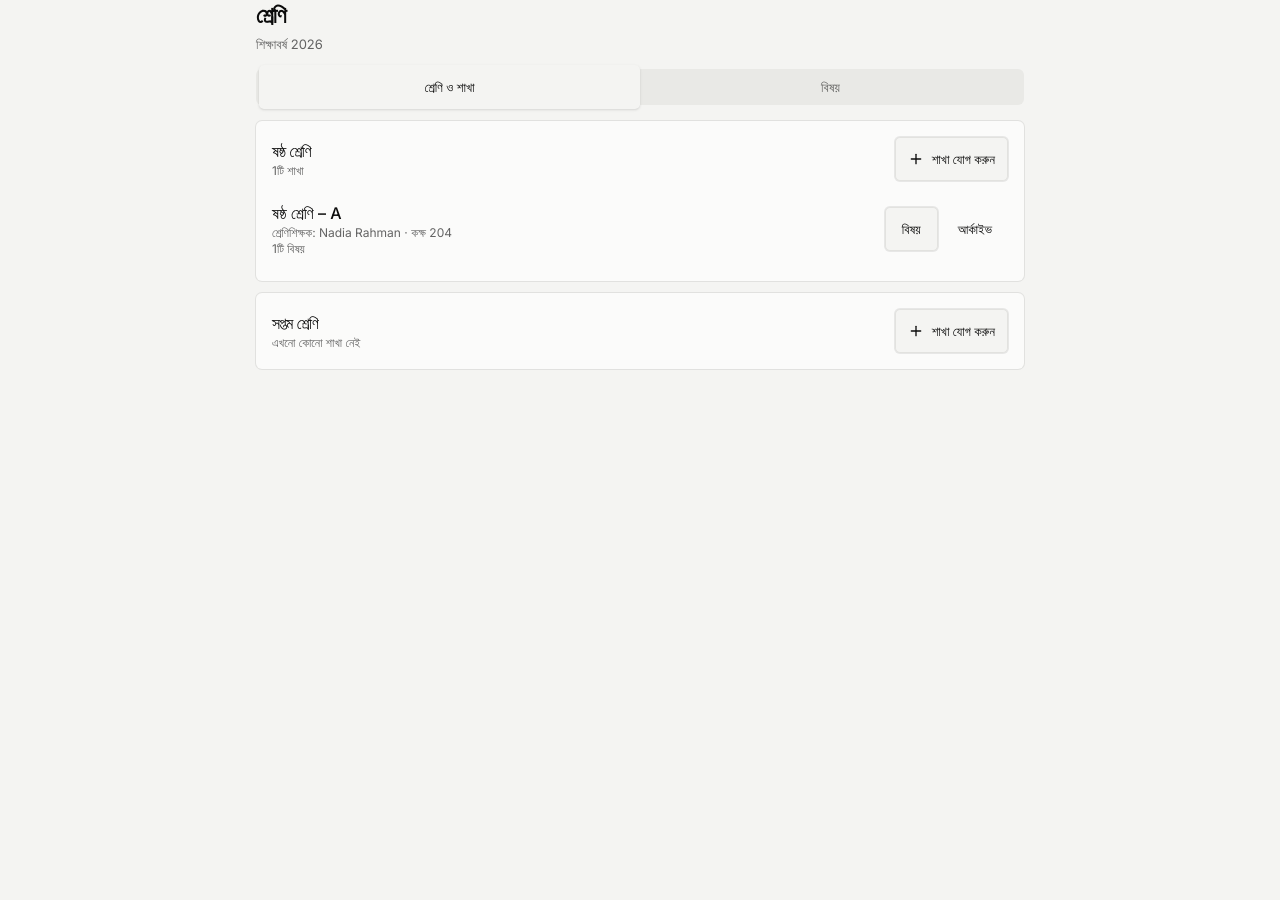
Test case: section subjects sheet (D-107) › names subjects in Bangla and keeps digits Western
Check: the text "1টি বিষয়" is shown, box [272,241,305,256]
Click the button with aria-label "ষষ্ঠ শ্রেণি – A-এর বিষয়".
click(911, 229)  # box [885,207,938,251]
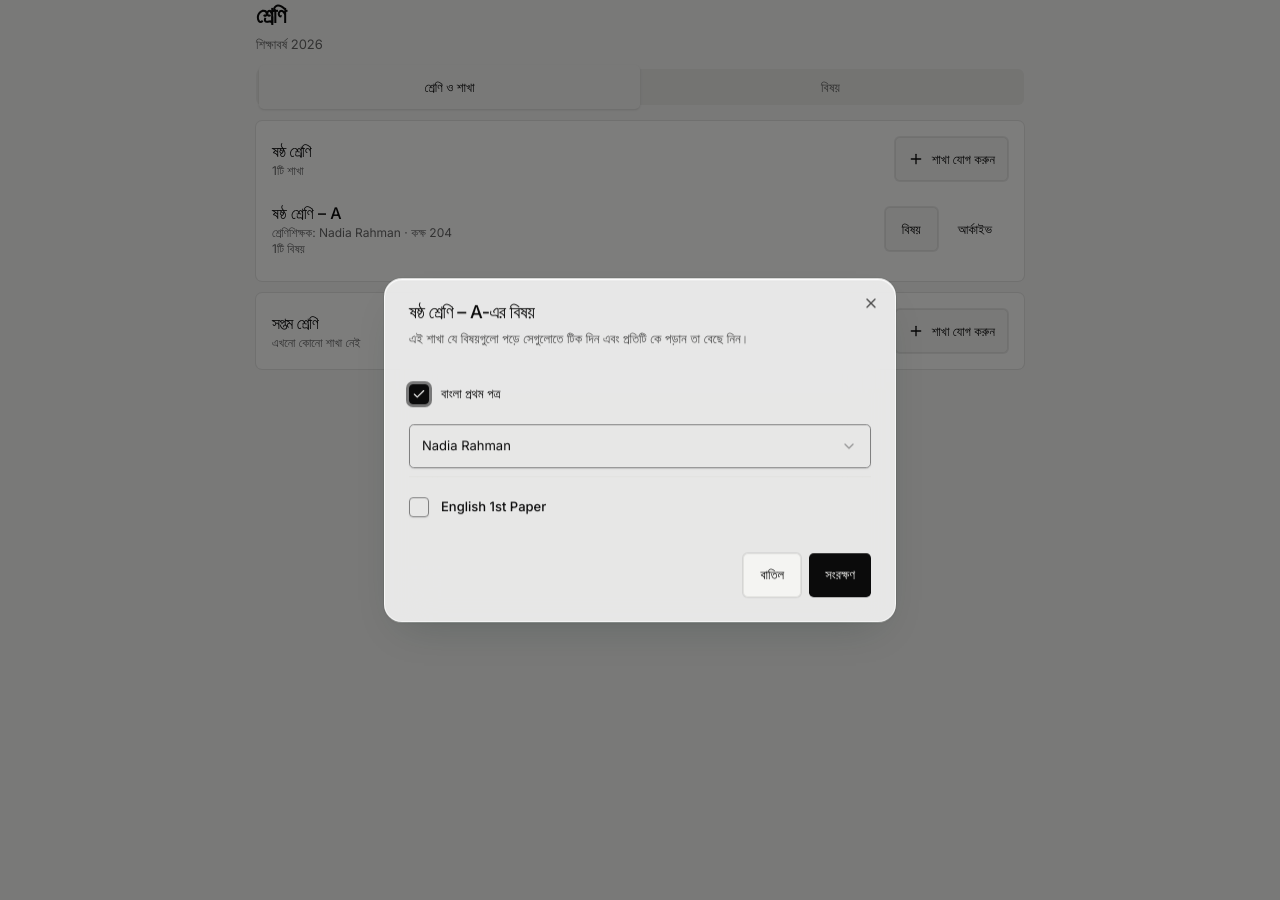
Check: the dropdown named "বাংলা প্রথম পত্র-এর শিক্ষক" is shown, box [409,424,871,468]
